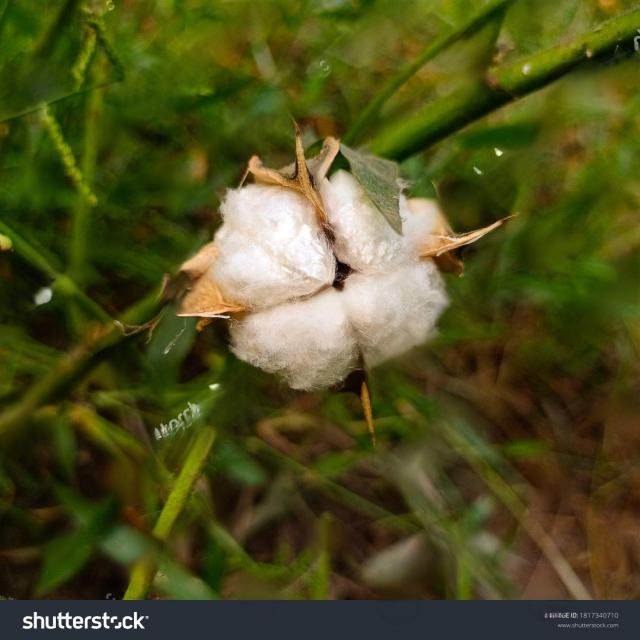Late_blight: (163, 104, 517, 453)
